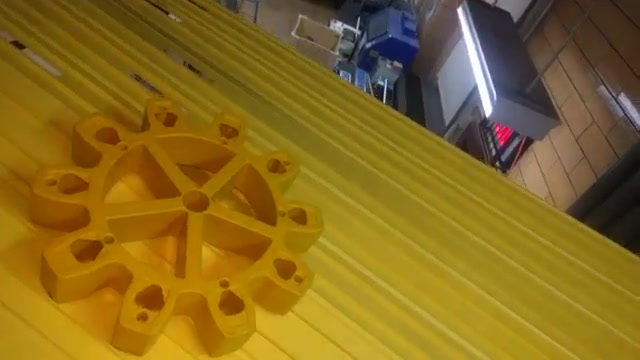gear: (29, 87, 335, 360)
